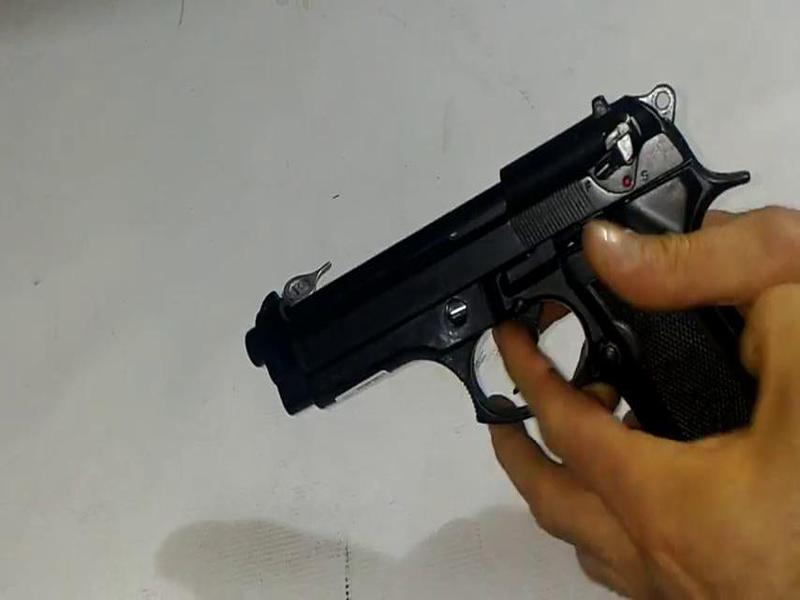Pistola: (234, 78, 780, 499)
